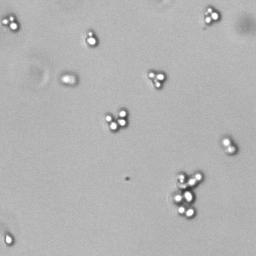budding: (1, 13, 19, 31), (220, 135, 236, 154), (86, 31, 98, 48)
cluster: (171, 168, 205, 219), (104, 106, 130, 133), (146, 68, 167, 90), (202, 6, 222, 27)
individual: (61, 75, 76, 85), (3, 234, 13, 244)
